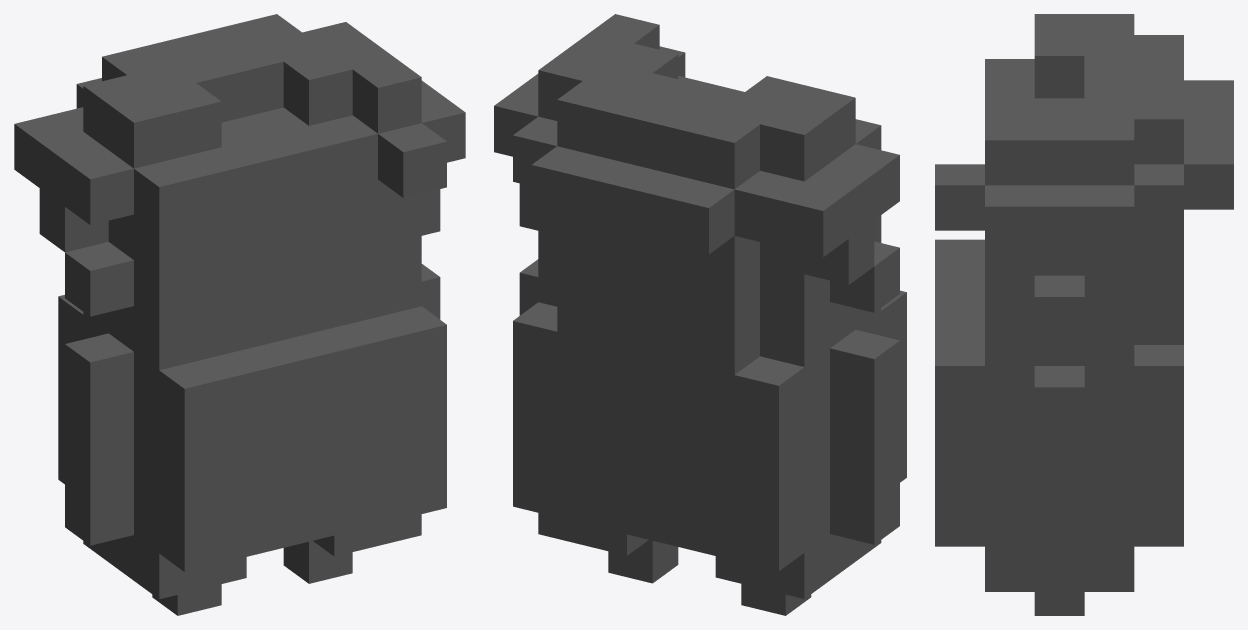
Rendered from chr_suit4.obj.
The picture shows the model from 3 angles, left to right: view 1: azimuth 30°, elevation 25°; view 2: azimuth 150°, elevation 25°; view 3: azimuth 270°, elevation 25°; orthographic projection. The views are drawn at different scales.
Size of the model in its own units: 8 by 11 by 6.
